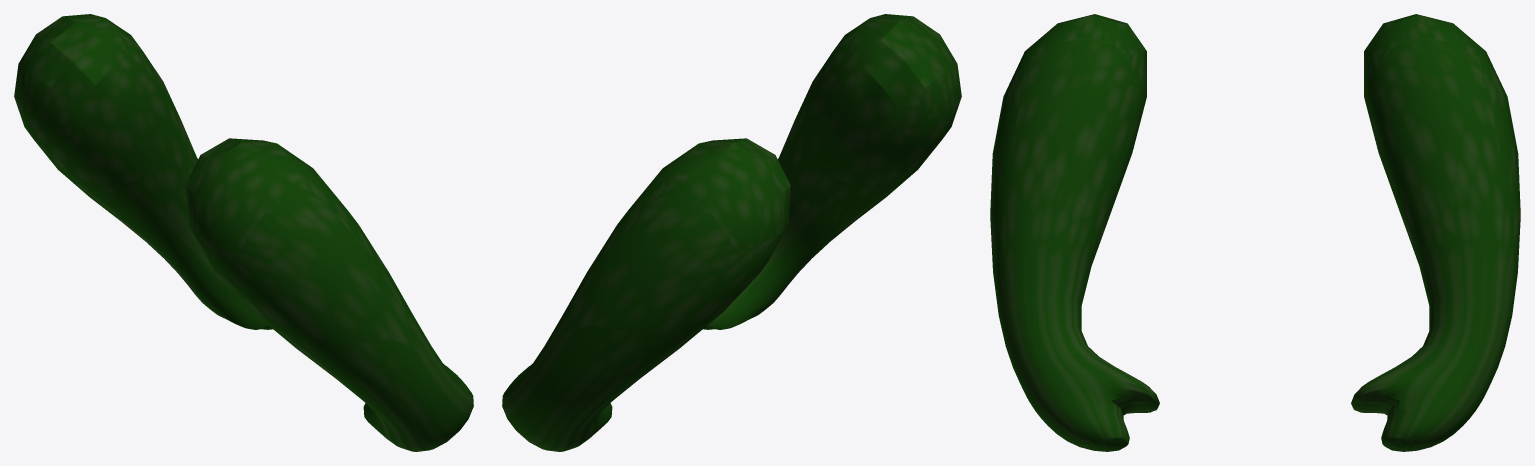
File: mainkol.fbx
3 views of the same model, side by side, from view 1: azimuth 30°, elevation 25°; view 2: azimuth 150°, elevation 25°; view 3: azimuth 270°, elevation 25° (orthographic).
Parts seen in each view (by area): view 1: Cube.005; view 2: Cube.005; view 3: Cube.005.
Boxes of the visible parts, x1=… form: Cube.005: x1=14, y1=14, x2=473, y2=451; Cube.005: x1=502, y1=14, x2=961, y2=451; Cube.005: x1=990, y1=14, x2=1520, y2=451.
Bounding box in the file's own units: 69.41 × 82.63 × 116.
Materials: 1 (1 with a texture image).
